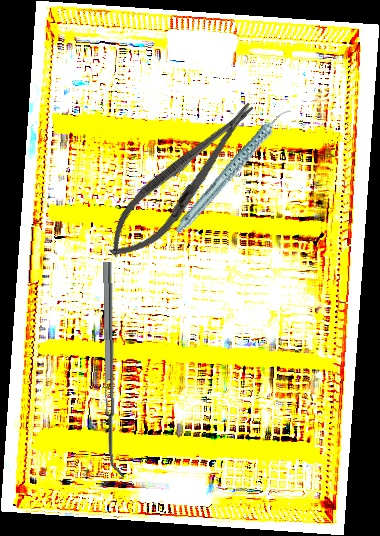Handpiece: (154, 106, 314, 237)
Needle Holder: (94, 88, 271, 273)
Spatula Surgical: (103, 261, 124, 477)
